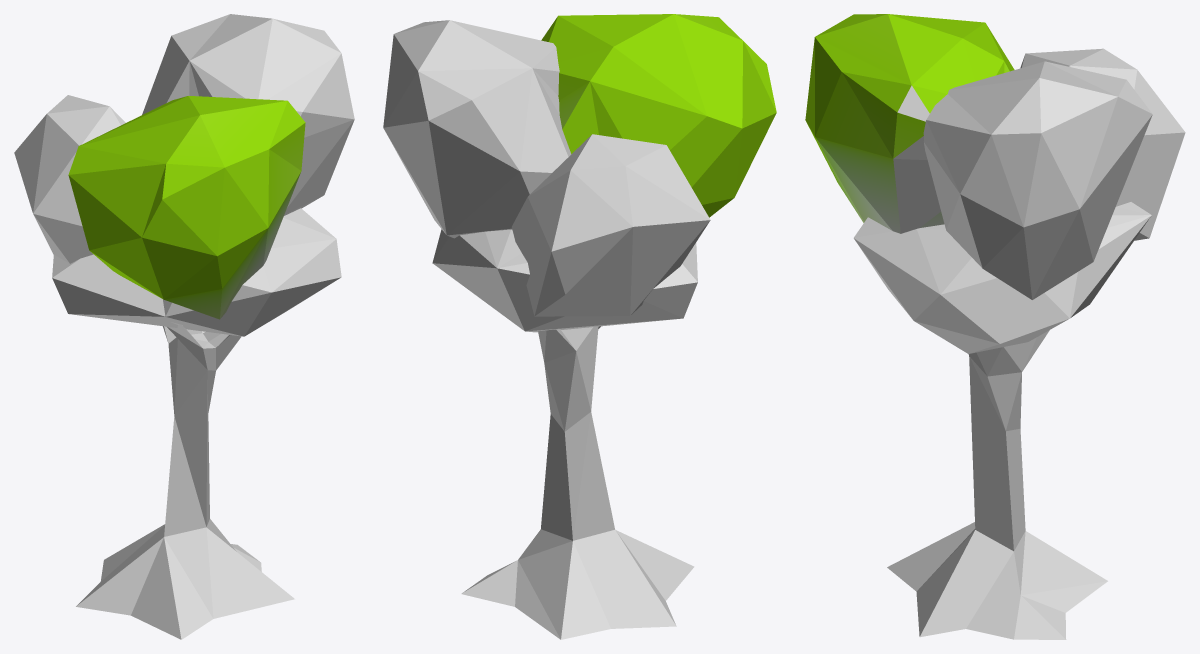
File: tree1_LOD0.fbx
3 renders of one model, left to right at view 1: azimuth 30°, elevation 25°; view 2: azimuth 150°, elevation 25°; view 3: azimuth 270°, elevation 25°, orthographic. The views are drawn at different scales.
Visible parts, largest first — view 1: Leaves1, Trunk, Leaves3, Leaves4, Leaves2; view 2: Leaves3, Leaves1, Trunk, Leaves2, Leaves4; view 3: Leaves3, Leaves1, Trunk, Leaves4, Leaves2.
Boxes of the visible parts, x1=… form: Leaves1: x1=68, y1=96, x2=305, y2=319; Trunk: x1=76, y1=322, x2=294, y2=639; Leaves3: x1=142, y1=14, x2=354, y2=215; Leaves4: x1=52, y1=208, x2=341, y2=336; Leaves2: x1=14, y1=95, x2=125, y2=263; Leaves3: x1=383, y1=20, x2=571, y2=238; Leaves1: x1=541, y1=14, x2=776, y2=217; Trunk: x1=461, y1=326, x2=694, y2=639; Leaves2: x1=511, y1=134, x2=710, y2=316; Leaves4: x1=432, y1=229, x2=697, y2=332; Leaves3: x1=923, y1=61, x2=1152, y2=299; Leaves1: x1=805, y1=14, x2=1014, y2=233; Trunk: x1=887, y1=330, x2=1107, y2=639; Leaves4: x1=853, y1=202, x2=1151, y2=353; Leaves2: x1=1020, y1=48, x2=1185, y2=240.
Bounding box in the file's own units: 4.39 × 7.3 × 4.36.
